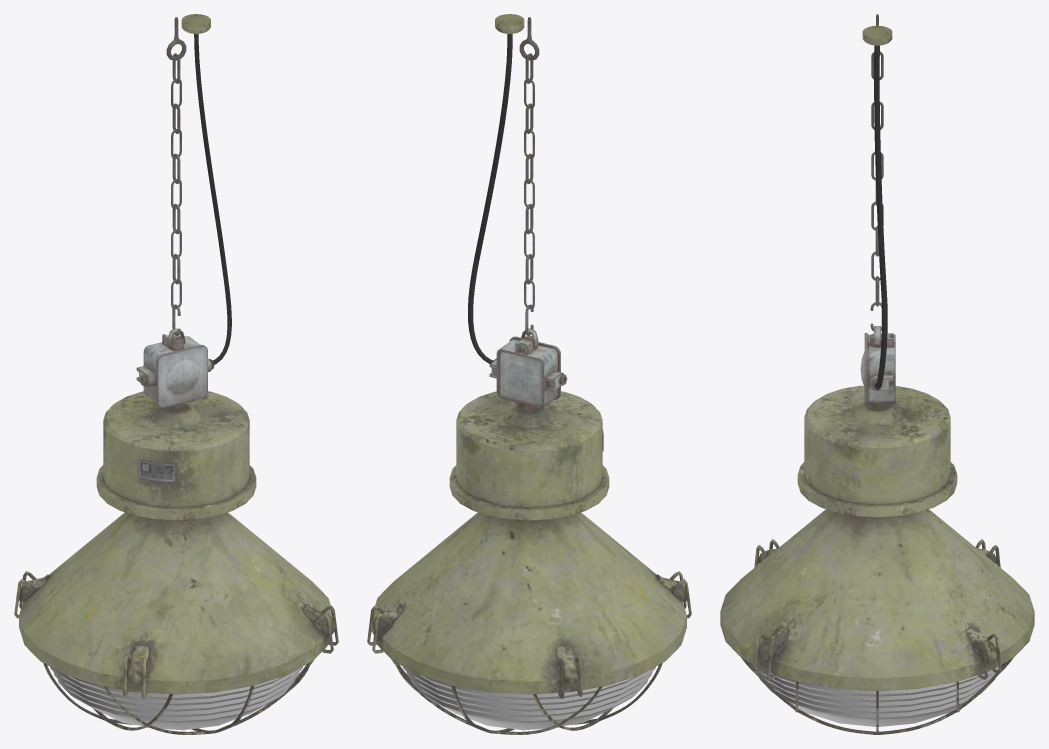
The model's file is hanging_industrial_lamp.glb.
3 renders of one model, left to right at view 1: azimuth 30°, elevation 25°; view 2: azimuth 150°, elevation 25°; view 3: azimuth 270°, elevation 25°, orthographic.
Parts seen in each view (by area): view 1: hanging_industrial_lamp; view 2: hanging_industrial_lamp; view 3: hanging_industrial_lamp.
Part boxes in pixels (x1,y1,x2,y2): hanging_industrial_lamp: (14,14,338,734); hanging_industrial_lamp: (367,14,691,734); hanging_industrial_lamp: (720,14,1034,734).
Bounding box in the file's own units: 0.5497 × 1.36 × 0.5497.
Materials: 2 (1 with a texture image).
